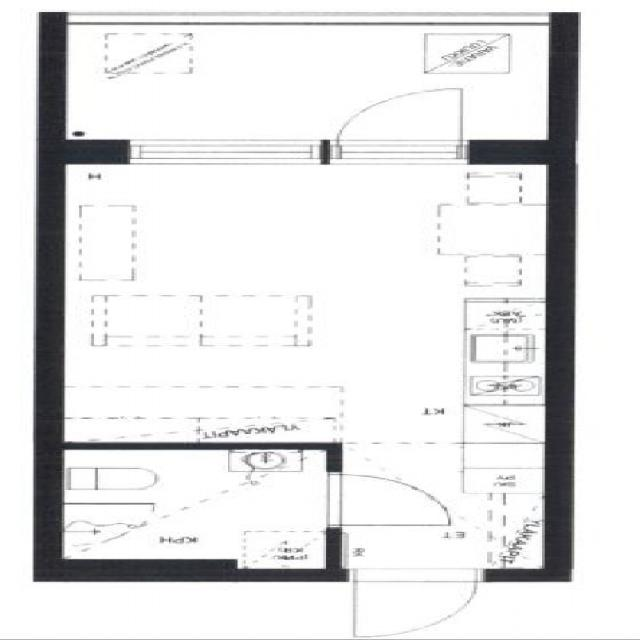door: (338, 84, 462, 164), (353, 568, 475, 636), (326, 474, 451, 524)
